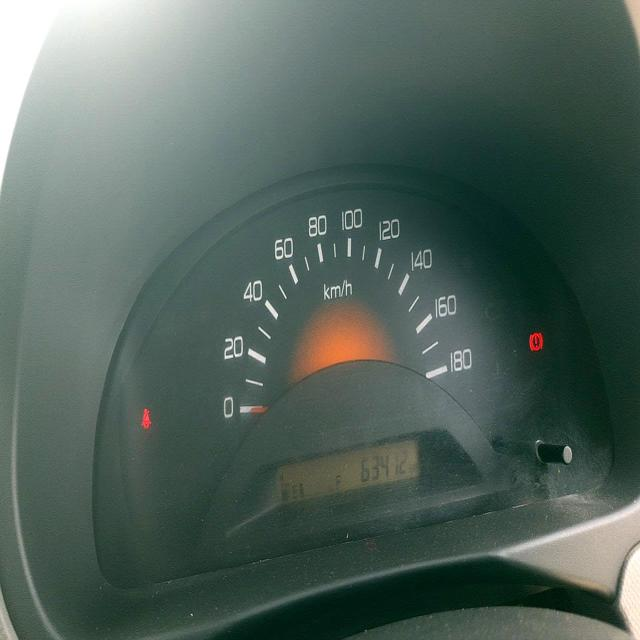odometer: (356, 444, 408, 485)
